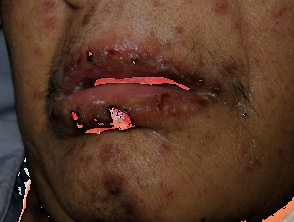SJS-TEN: (30, 11, 234, 159), (80, 120, 187, 222), (200, 0, 263, 41), (28, 0, 65, 60)
